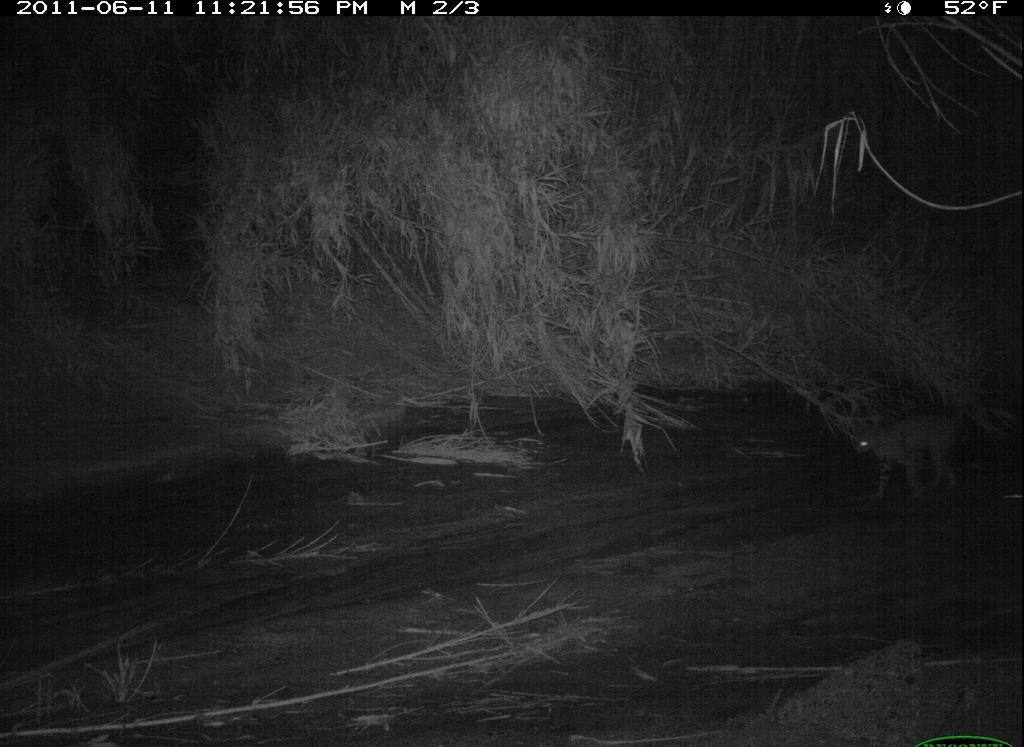bobcat: (846, 397, 971, 506)
